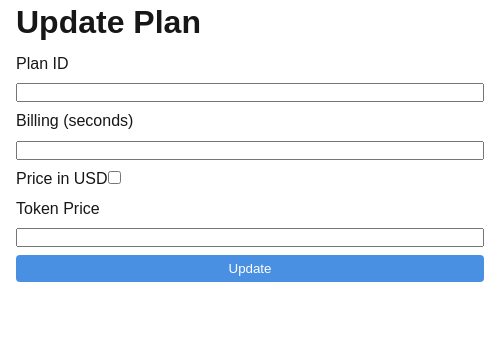
Test case: UpdatePlan page › shows contract error
In the field labelled "Plan ID": [250, 93] box x1=16 y1=83 x2=484 y2=102, type "1"
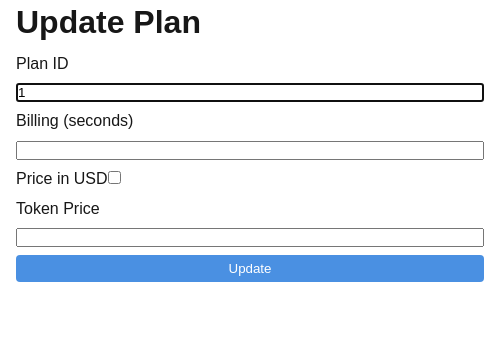
In the field labelled "Billing (seconds)": [250, 150] box x1=16 y1=141 x2=484 y2=160, type "1"
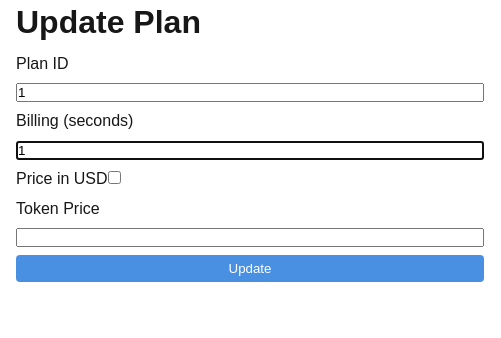
In the field labelled "Token Price": [250, 238] box x1=16 y1=228 x2=484 y2=247, type "1"
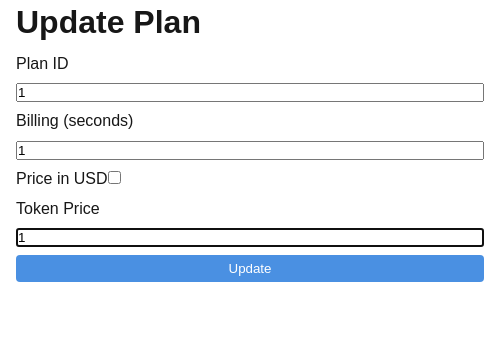
Click the button "Update": [250, 269] box x1=16 y1=255 x2=484 y2=282
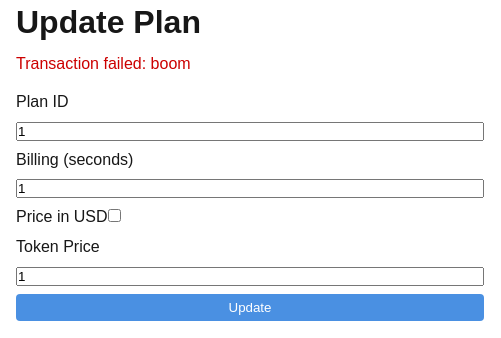
Expected: the text "Transaction failed: boom" is shown, x1=16 y1=55 x2=191 y2=72
